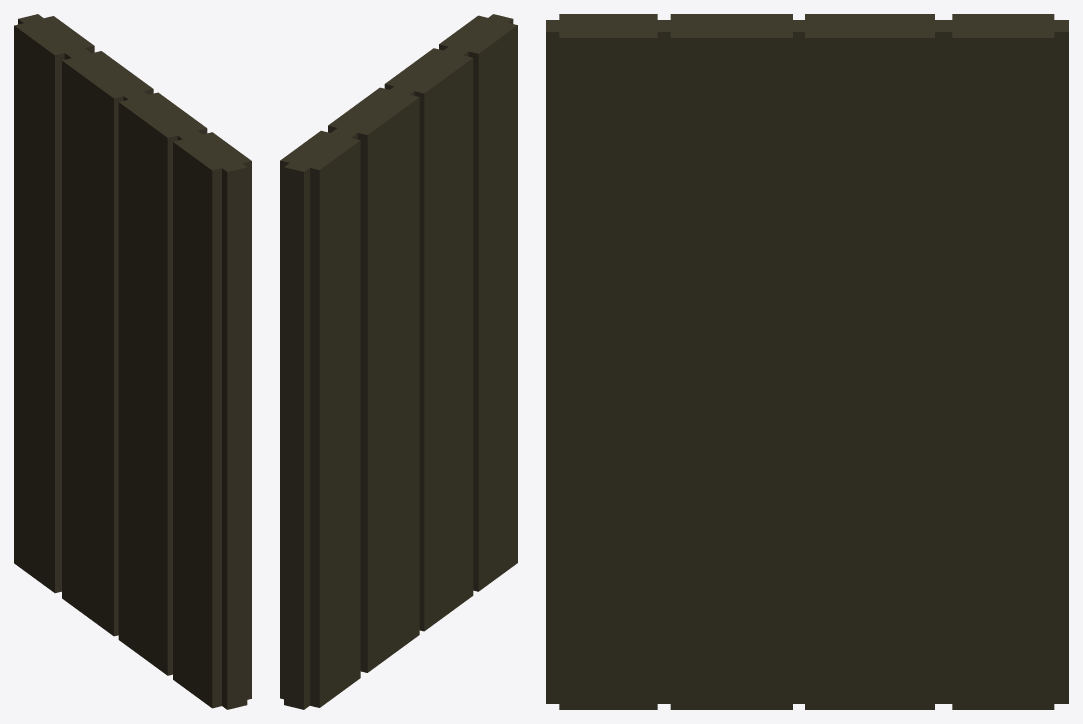
Rendered from Door_Improved.fbx.
3 renders of one model, left to right at view 1: azimuth 30°, elevation 25°; view 2: azimuth 150°, elevation 25°; view 3: azimuth 270°, elevation 25°, orthographic. The views are drawn at different scales.
Parts seen in each view (by area): view 1: pasted__pCube1; view 2: pasted__pCube1; view 3: pasted__pCube1.
Boxes of the visible parts, bbox=[...] form: pasted__pCube1: bbox=[14, 14, 251, 709]; pasted__pCube1: bbox=[280, 14, 517, 709]; pasted__pCube1: bbox=[546, 14, 1068, 709].
Size of the model in its own units: 0.4399 by 5.72 by 4.03.
